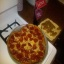pepperoni: (10, 44, 28, 60), (29, 26, 44, 43), (30, 42, 43, 60), (11, 33, 24, 45), (22, 26, 31, 43)
pizza: (8, 25, 50, 63)
